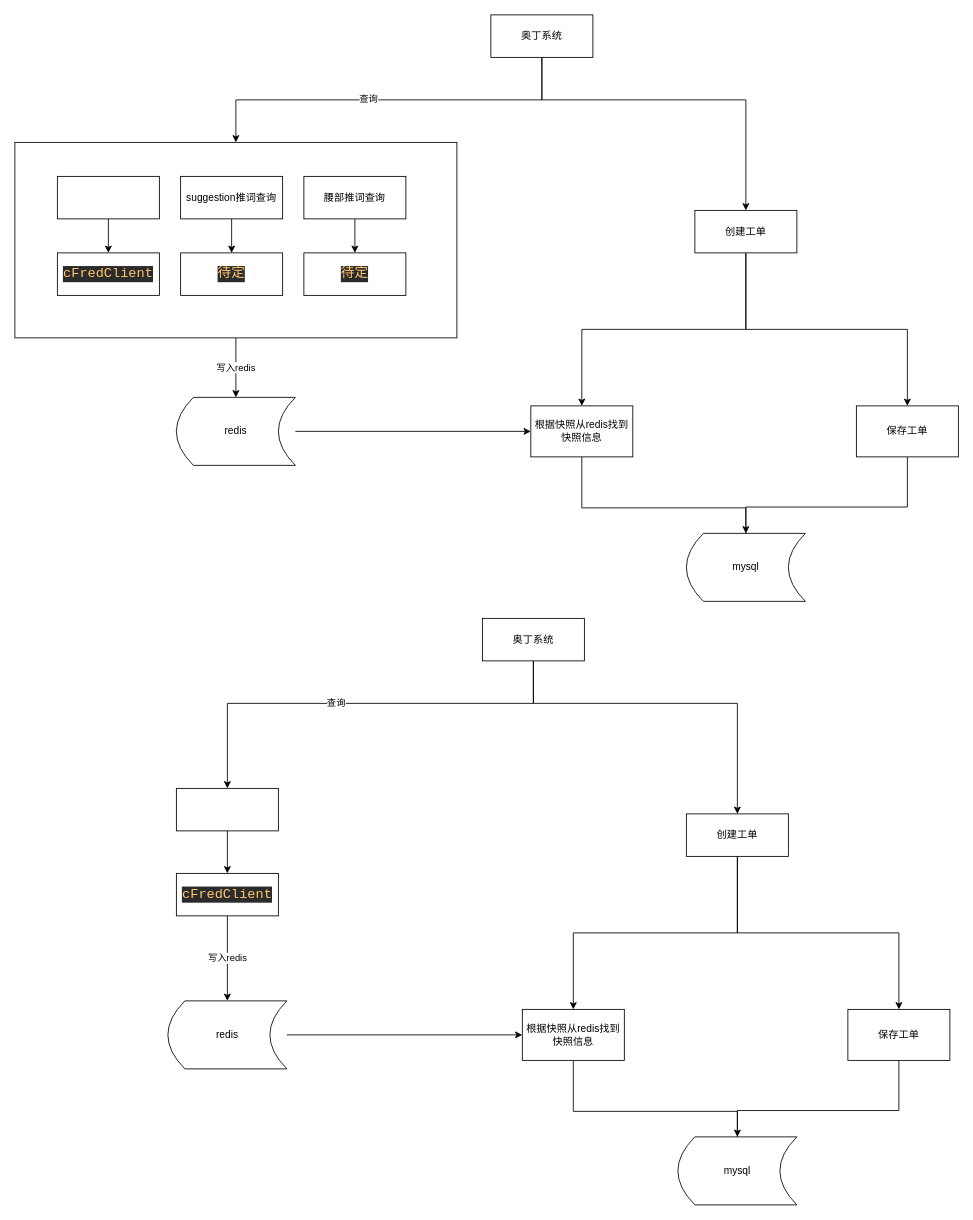
Some shapes in this 973 by 1220 pixel diagram are drawn without their labels. The centre of each missing label's shape, as x and y in pixels:
qp查询: the point at 108,197
query意图查询: the point at 227,809
